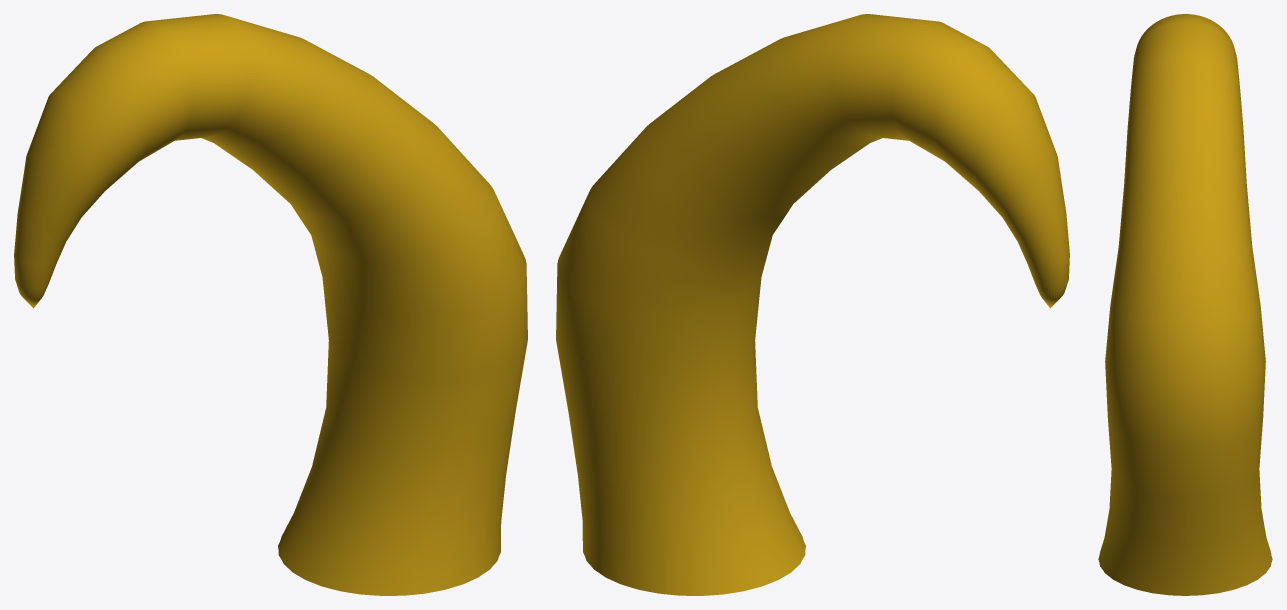
File: rock_modle3.fbx
3 views of the same model, side by side, from view 1: azimuth 30°, elevation 25°; view 2: azimuth 150°, elevation 25°; view 3: azimuth 270°, elevation 25° (orthographic). The views are drawn at different scales.
Visible parts, largest first — view 1: rock_modle3; view 2: rock_modle3; view 3: rock_modle3.
Part boxes in pixels (bbox=[...]): rock_modle3: bbox=[14, 14, 527, 595]; rock_modle3: bbox=[556, 14, 1069, 595]; rock_modle3: bbox=[1098, 14, 1272, 595].
Bounding box in the file's own units: 167 × 186 × 65.19.
